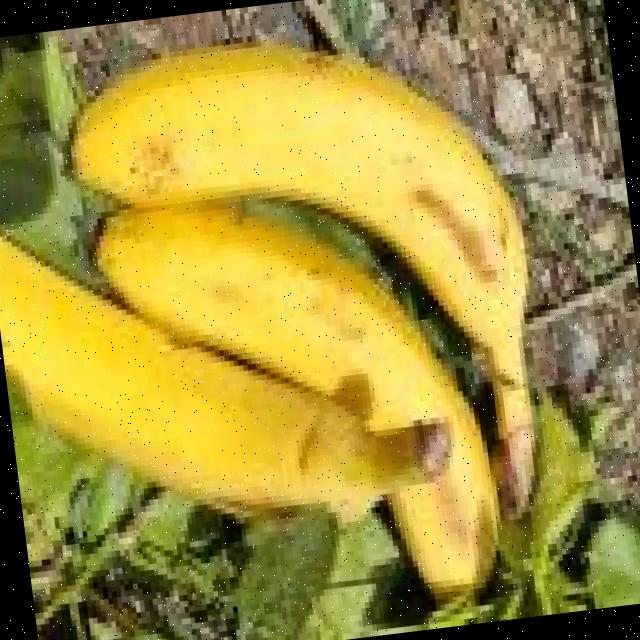Good_Banana-2-3 days: (0, 53, 530, 596)
